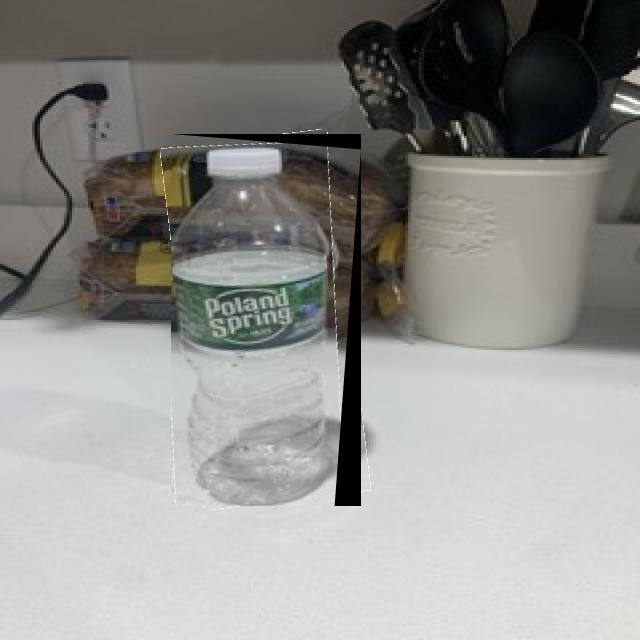water_bottle: (171, 134, 361, 506)
